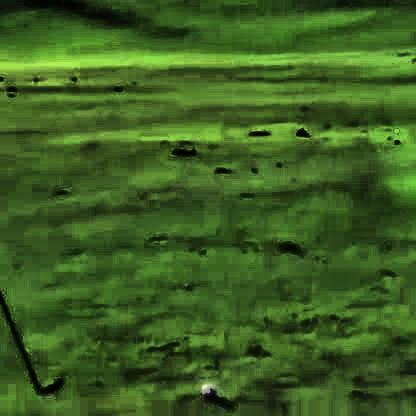golfball: (199, 377, 215, 395)
